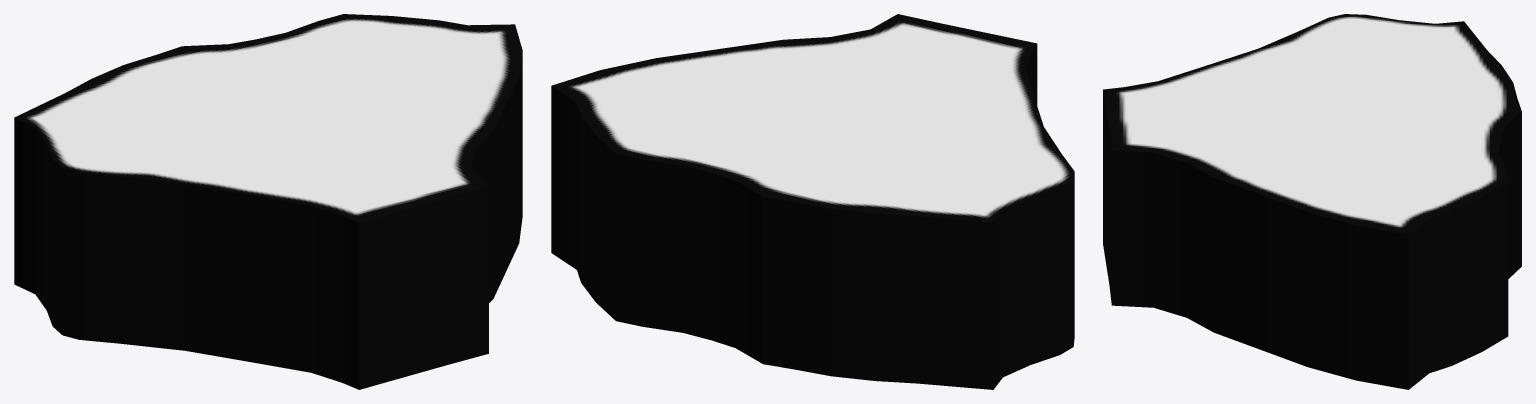
The picture shows the model from 3 angles, left to right: view 1: azimuth 30°, elevation 25°; view 2: azimuth 150°, elevation 25°; view 3: azimuth 270°, elevation 25°; orthographic projection. The views are drawn at different scales.
Visible parts, largest first — view 1: polySurface28; view 2: polySurface28; view 3: polySurface28.
Part boxes in pixels (left/top/right/bottom): polySurface28: left=14, top=14, right=522, bottom=389; polySurface28: left=551, top=14, right=1074, bottom=389; polySurface28: left=1103, top=14, right=1521, bottom=389.
Size of the model in its own units: 1.53 by 0.5 by 1.22.
